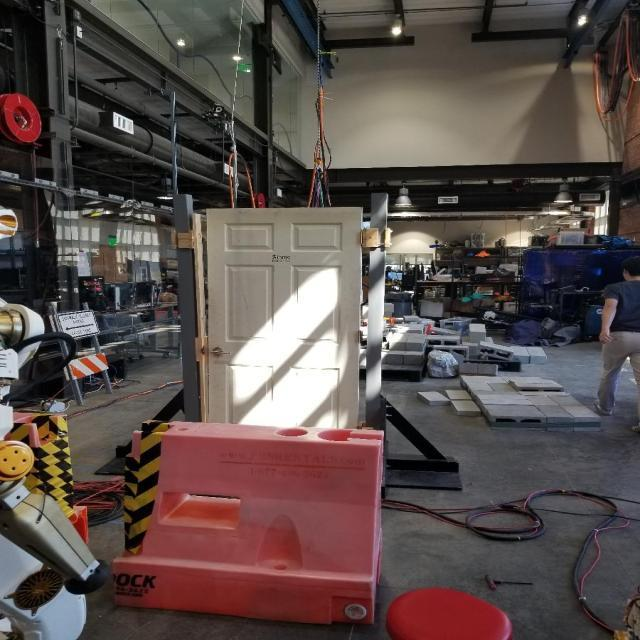door: (202, 205, 368, 460), (211, 343, 239, 358)
